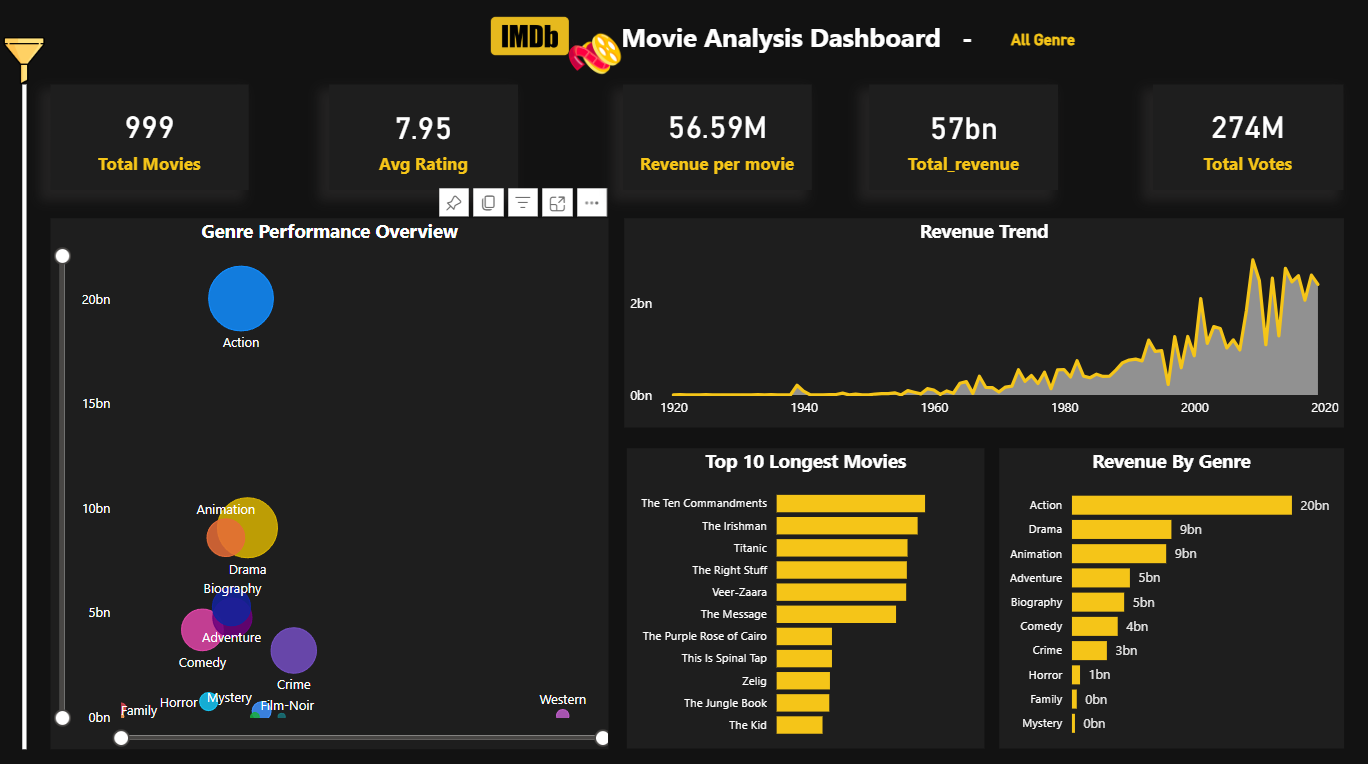

Layout of this report page (visuals, bound fields, positions):
{"tool":"powerbi","page":{"name":"Home","canvas":[1280,720],"ordinal":0},"visuals":[{"type":"card","fields":{"Values":["Key_measures.Total Movies"]},"box":[49.2,81.2,184.6,98.5],"z":0},{"type":"card","fields":{"Values":["Key_measures.Avg Rating"]},"box":[309.4,81.2,176.2,98.8],"z":1000},{"type":"card","fields":{"Values":["Key_measures.Total_revenue"]},"box":[813.1,81.2,176.2,98.8],"z":2000},{"type":"card","fields":{"Values":["Key_measures.Total Votes"]},"box":[1076.9,81.2,177.2,98.5],"z":3000},{"type":"lineChart","title":"Revenue Trend","fields":{"Y":["Key_measures.Total_revenue"],"Category":["imdb_top_1000.Released_Year"]},"box":[583.8,206.2,671.2,195],"z":4000},{"type":"barChart","title":"Top 10 Longest Movies","fields":{"Category":["imdb_top_1000.Series_Title"],"Y":["Avg(imdb_top_1000.Runtime)"]},"box":[586.2,421.2,333.8,280],"z":5000},{"type":"barChart","title":"Revenue By Genre","fields":{"Category":["imdb_top_1000.Genre"],"Y":["Key_measures.Total_revenue"]},"box":[933.8,421.2,321.2,280],"z":6000},{"type":"scatterChart","title":"Genre Performance Overview","fields":{"X":["Avg(imdb_top_1000.IMDB_Rating)"],"Y":["Sum(imdb_top_1000.Gross_Revenue)"],"Size":["Key_measures.Total Votes"],"Series":["imdb_top_1000.Genre"]},"box":[48.7,205.9,520.3,495.3],"z":7000},{"type":"shape","box":[0,81.2,49.2,620.3],"z":8000},{"type":"image","title":"Slicer Pane Button","box":[0,37.1,48.6,44.3],"z":9000},{"type":"image","box":[422.2,0,147.7,72.6],"z":10000},{"type":"textbox","box":[570,16.2,350,42.5],"z":11000},{"type":"card","fields":{"Values":["Key_measures.Revenue per movie"]},"box":[583.4,81.2,176,98.5],"z":12000},{"type":"card","fields":{"Values":["Key_measures.Selected Genre"]},"box":[901.2,25,147.5,33.8],"z":13000},{"type":"image","box":[496,24.6,121.8,56.6],"z":15000}]}

Visuals, with their boxes in screenshot pixels (x1, y1, x2, y2), scaled from the page's 1280x720 canvas onto the 1368x764 screenshot:
card - Key_measures.Total Movies: 53, 86, 250, 191
card - Key_measures.Avg Rating: 331, 86, 519, 191
card - Key_measures.Total_revenue: 869, 86, 1057, 191
card - Key_measures.Total Votes: 1151, 86, 1340, 191
"Revenue Trend" lineChart: 624, 219, 1341, 426
"Top 10 Longest Movies" barChart: 627, 447, 983, 744
"Revenue By Genre" barChart: 998, 447, 1341, 744
"Genre Performance Overview" scatterChart: 52, 218, 608, 744
shape: 0, 86, 53, 744
"Slicer Pane Button" image: 0, 39, 52, 86
image: 451, 0, 609, 77
textbox: 609, 17, 983, 62
card - Key_measures.Revenue per movie: 624, 86, 812, 191
card - Key_measures.Selected Genre: 963, 27, 1121, 62
image: 530, 26, 660, 86
